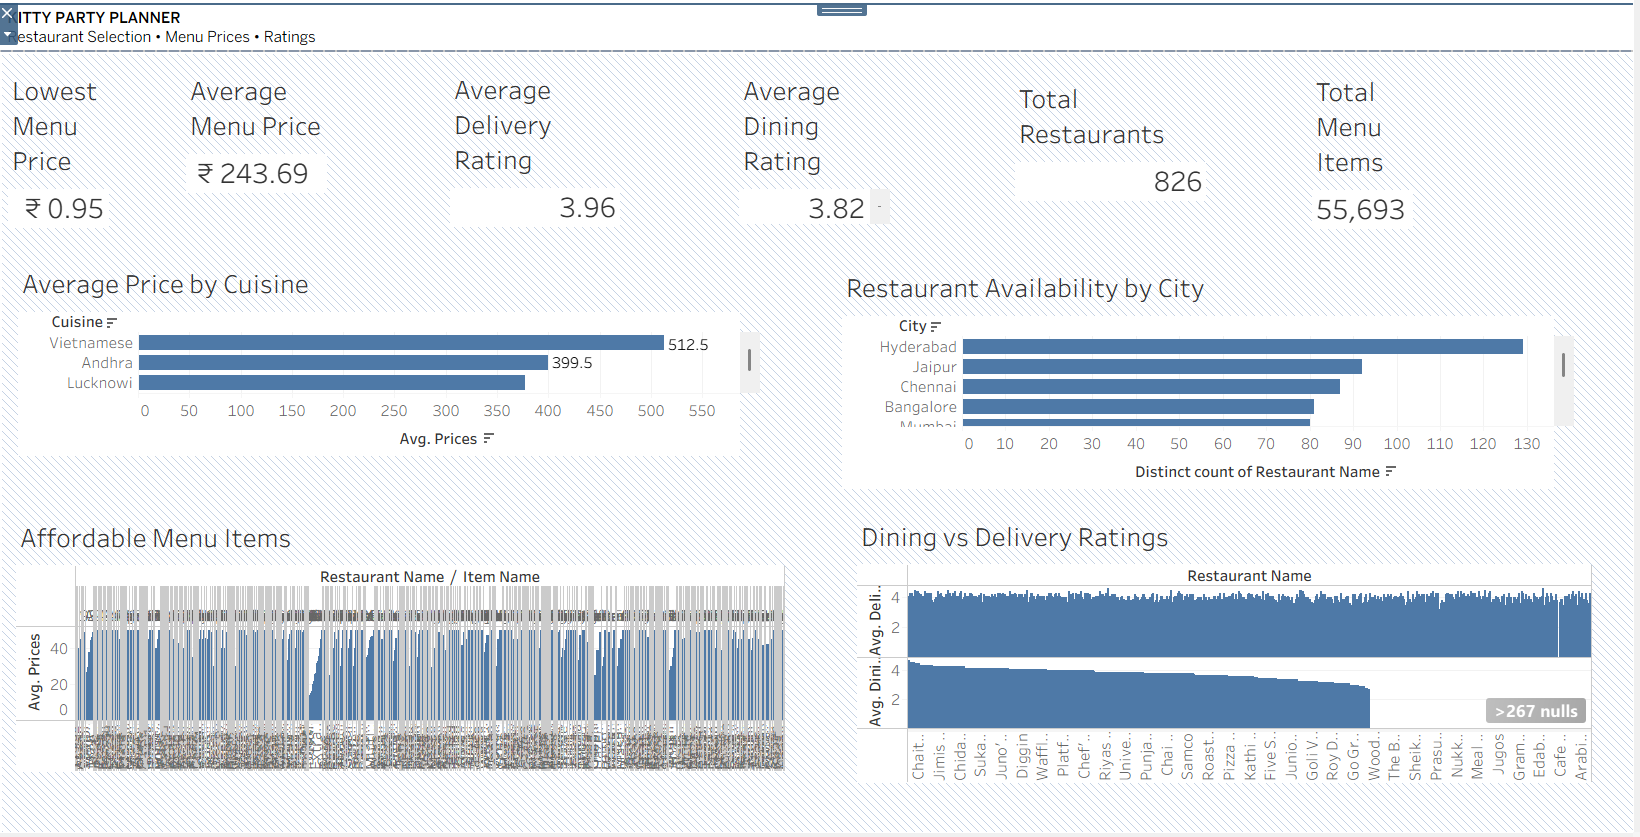

This screenshot's page, from the dashboard's own definition file:
{"tool":"tableau","page":{"name":"Executive Dashboard","canvas":[1700,900],"ordinal":0},"visuals":[{"type":"text","box":[8,8,1684,45]},{"type":"worksheet","title":"KPI 6 — Average Delivery Rating","mark":"Automatic","box":[458,71,170,159]},{"type":"worksheet","title":"KPI 4 — Lowest Menu Price","mark":"Automatic","box":[16,72,147,169]},{"type":"worksheet","title":"KPI 3 — Average Menu Price","mark":"Automatic","box":[194,72,192,133]},{"type":"worksheet","title":"KPI 5 — Average Dining Rating","mark":"Automatic","box":[747,72,151,155]},{"type":"worksheet","title":"KPI 2 — Total Menu Items","mark":"Automatic","box":[1320,73,209,160]},{"type":"worksheet","title":"KPI 1 - Total Restaurants","mark":"Automatic","box":[1023,80,191,160]},{"type":"worksheet","title":"Average Price by Cuisine","mark":"Bar","rows":["Cuisine"],"cols":["Prices"],"box":[26,265,742,194]},{"type":"worksheet","title":"Restaurant Availability by City","mark":"Automatic","rows":["City"],"cols":["Restaurant Name"],"box":[850,269,732,223]},{"type":"worksheet","title":"Dining vs Delivery Ratings","mark":"Automatic","rows":["Delivery Rating","Dining Rating"],"cols":["Restaurant Name"],"box":[865,518,735,269]},{"type":"worksheet","title":"Affordable Menu Items","mark":"Automatic","rows":["Prices"],"cols":["Restaurant Name","Item Name"],"box":[24,519,769,257]}]}

Visuals, with their boxes on the page's 1700x900 design canvas (x1, y1, x2, y2). These are canvas units, not pixel positions in the 1640x837 screenshot, which may show the page scaled, cropped or inside an application window:
text: x1=8, y1=8, x2=1692, y2=53
"KPI 6 — Average Delivery Rating" worksheet: x1=458, y1=71, x2=628, y2=230
"KPI 4 — Lowest Menu Price" worksheet: x1=16, y1=72, x2=163, y2=241
"KPI 3 — Average Menu Price" worksheet: x1=194, y1=72, x2=386, y2=205
"KPI 5 — Average Dining Rating" worksheet: x1=747, y1=72, x2=898, y2=227
"KPI 2 — Total Menu Items" worksheet: x1=1320, y1=73, x2=1529, y2=233
"KPI 1 - Total Restaurants" worksheet: x1=1023, y1=80, x2=1214, y2=240
"Average Price by Cuisine" worksheet (Bar marks): x1=26, y1=265, x2=768, y2=459
"Restaurant Availability by City" worksheet: x1=850, y1=269, x2=1582, y2=492
"Dining vs Delivery Ratings" worksheet: x1=865, y1=518, x2=1600, y2=787
"Affordable Menu Items" worksheet: x1=24, y1=519, x2=793, y2=776
